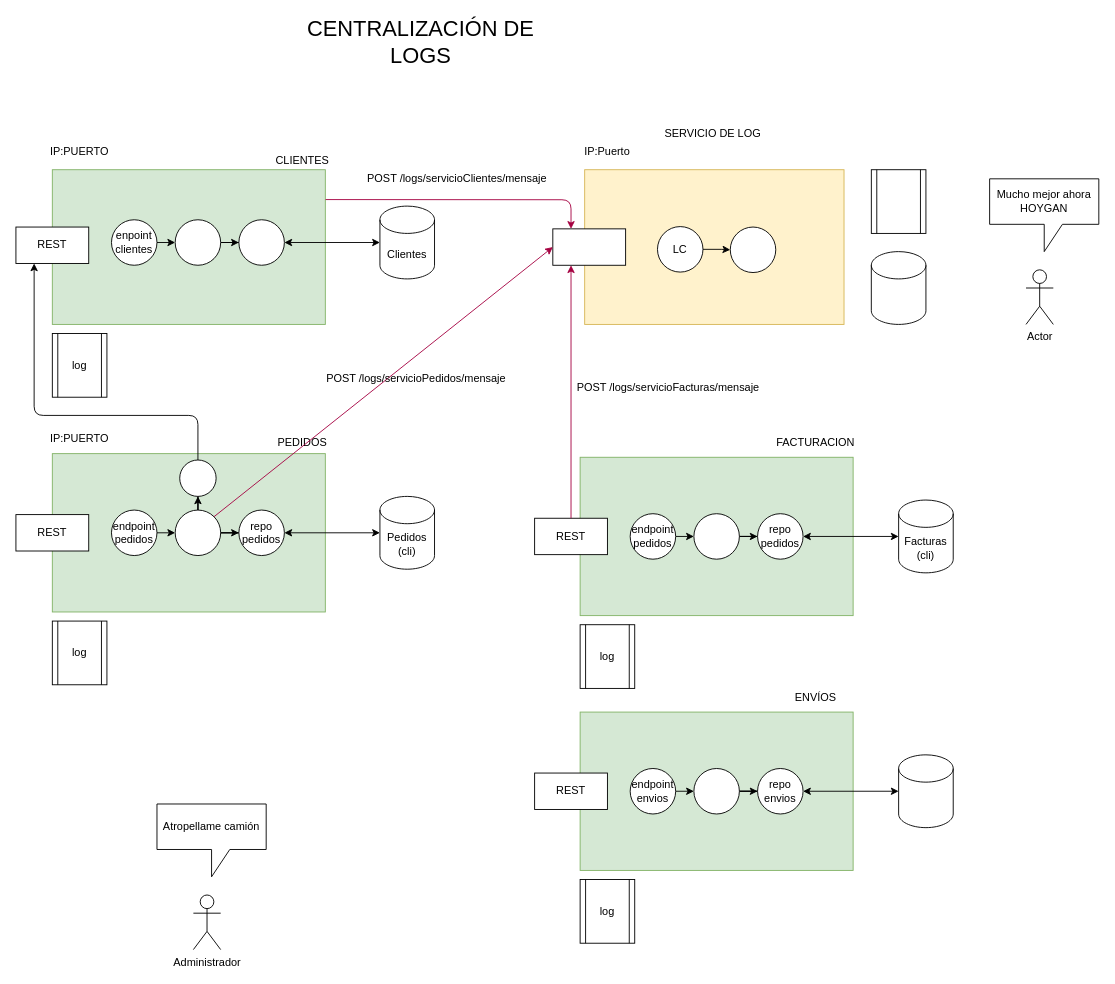
Image size: 1115x984. Some labels were removed from this diagram. Here are the shapes that lost their labels. From the top down, the centre of each, then its label:
the point at 197,242: negocio clientes
the point at 261,242: repo clientes
the point at 589,246: REST Asincrono
the point at 752,249: LN
the point at 898,287: MongoDB ElasticSearch
the point at 197,477: proxy
the point at 197,532: negocio pedidos
the point at 716,536: negocio facturas
the point at 716,791: negocio envíos
the point at 925,791: Envios (cli)
